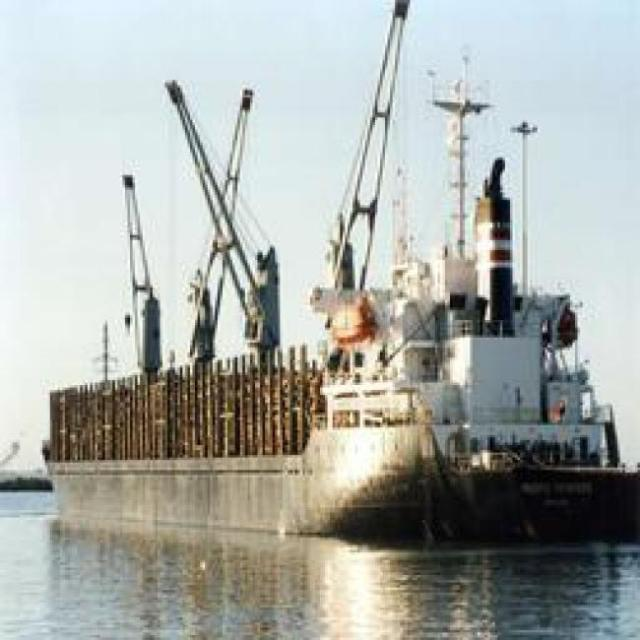boat: (34, 183, 639, 560)
